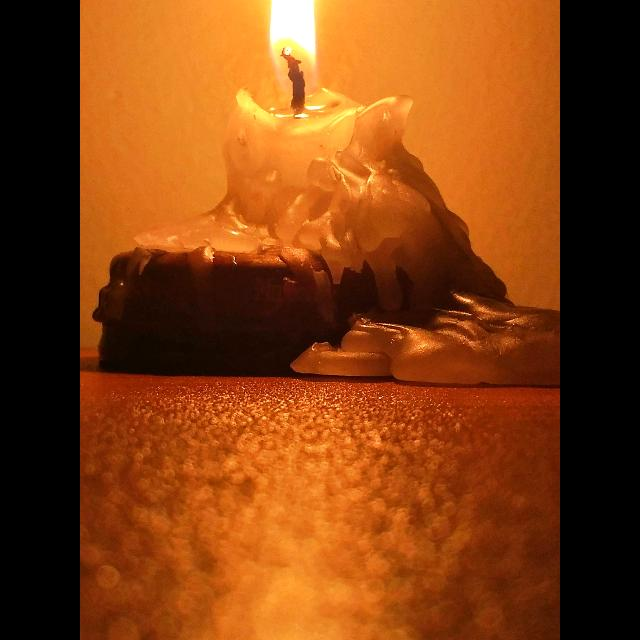fire: (92, 0, 560, 385)
